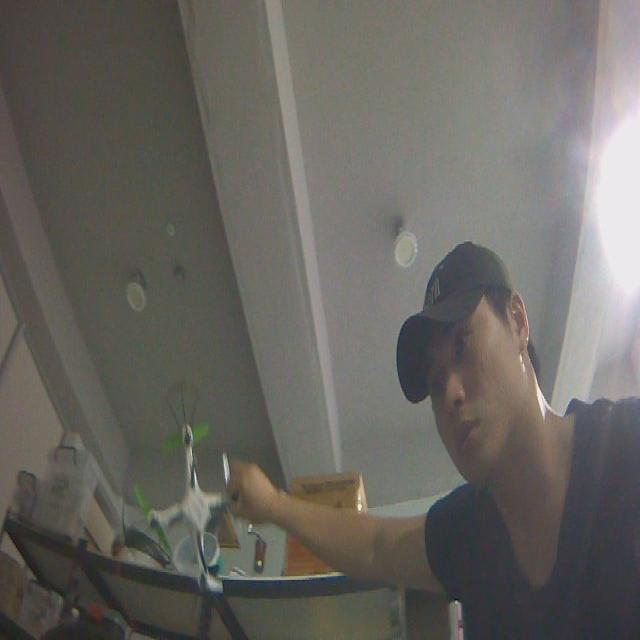drone: (120, 376, 262, 629)
